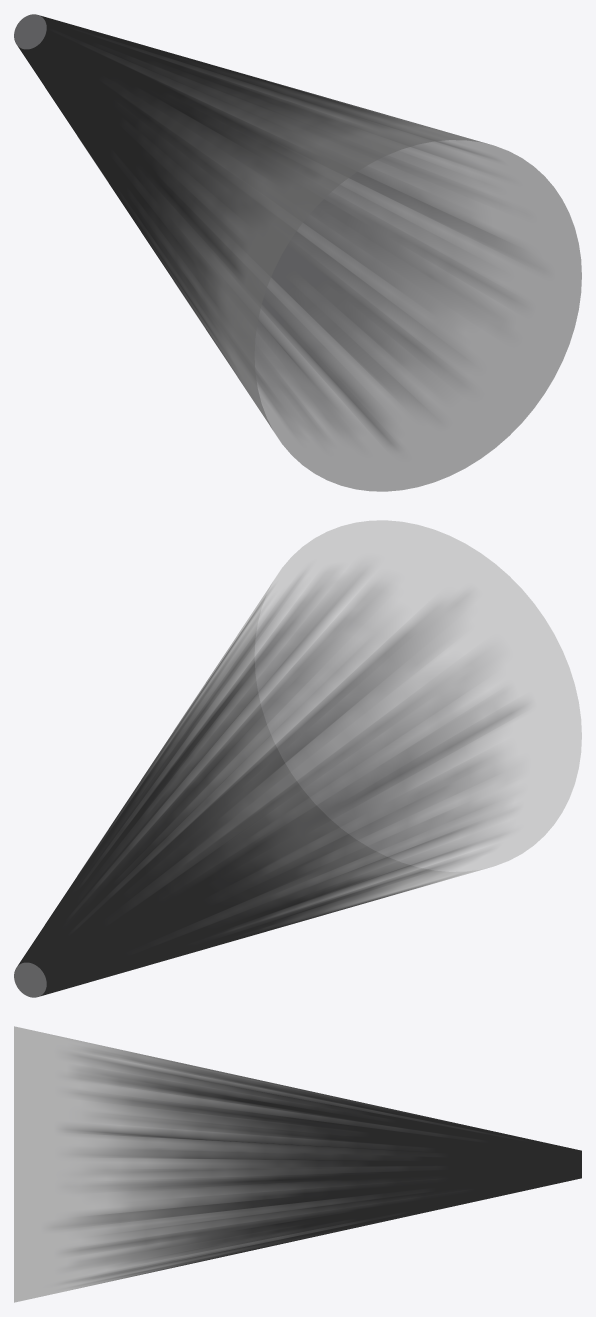
The picture shows the model from 3 angles, top to bottom: view 1: azimuth 30°, elevation 25°; view 2: azimuth 150°, elevation 25°; view 3: azimuth 270°, elevation 25°; orthographic projection. The views are drawn at different scales.
Visible parts, largest first — view 1: Joint_0_Object_0; view 2: Joint_0_Object_0; view 3: Joint_0_Object_0.
Part boxes in pixels (x1,y1,x2,y2): Joint_0_Object_0: [14, 14, 581, 491]; Joint_0_Object_0: [14, 520, 581, 997]; Joint_0_Object_0: [14, 1026, 581, 1302].
Bounding box in the file's own units: 400 × 400 × 822.
Materials: 1 (1 with a texture image).
